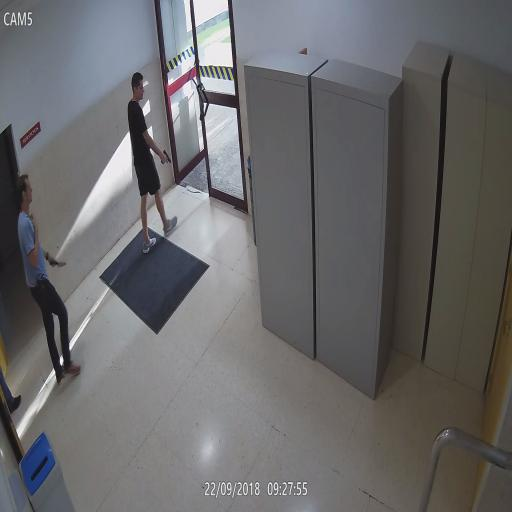Handgun: (36, 273, 47, 298), (160, 150, 172, 166)
